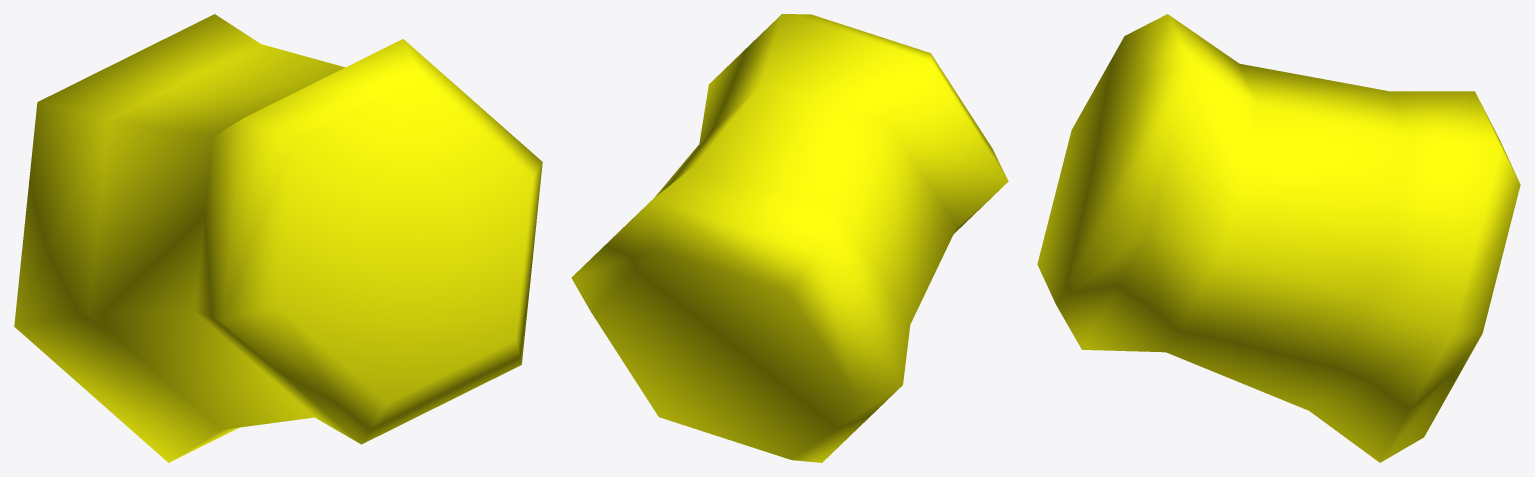
Rendered from bone_whale_piece_ver00.glb.
3 views of the same model, side by side, from view 1: azimuth 30°, elevation 25°; view 2: azimuth 150°, elevation 25°; view 3: azimuth 270°, elevation 25° (orthographic). The views are drawn at different scales.
Visible parts, largest first — view 1: bone_whale_piece_ver00; view 2: bone_whale_piece_ver00; view 3: bone_whale_piece_ver00.
Part boxes in pixels (left/top/right/bottom): bone_whale_piece_ver00: left=14, top=14, right=542, bottom=462; bone_whale_piece_ver00: left=571, top=14, right=1008, bottom=462; bone_whale_piece_ver00: left=1037, top=14, right=1520, bottom=462.
Size of the model in its own units: 2.23 by 2.52 by 2.73.
Materials: 1 (1 with a texture image).
